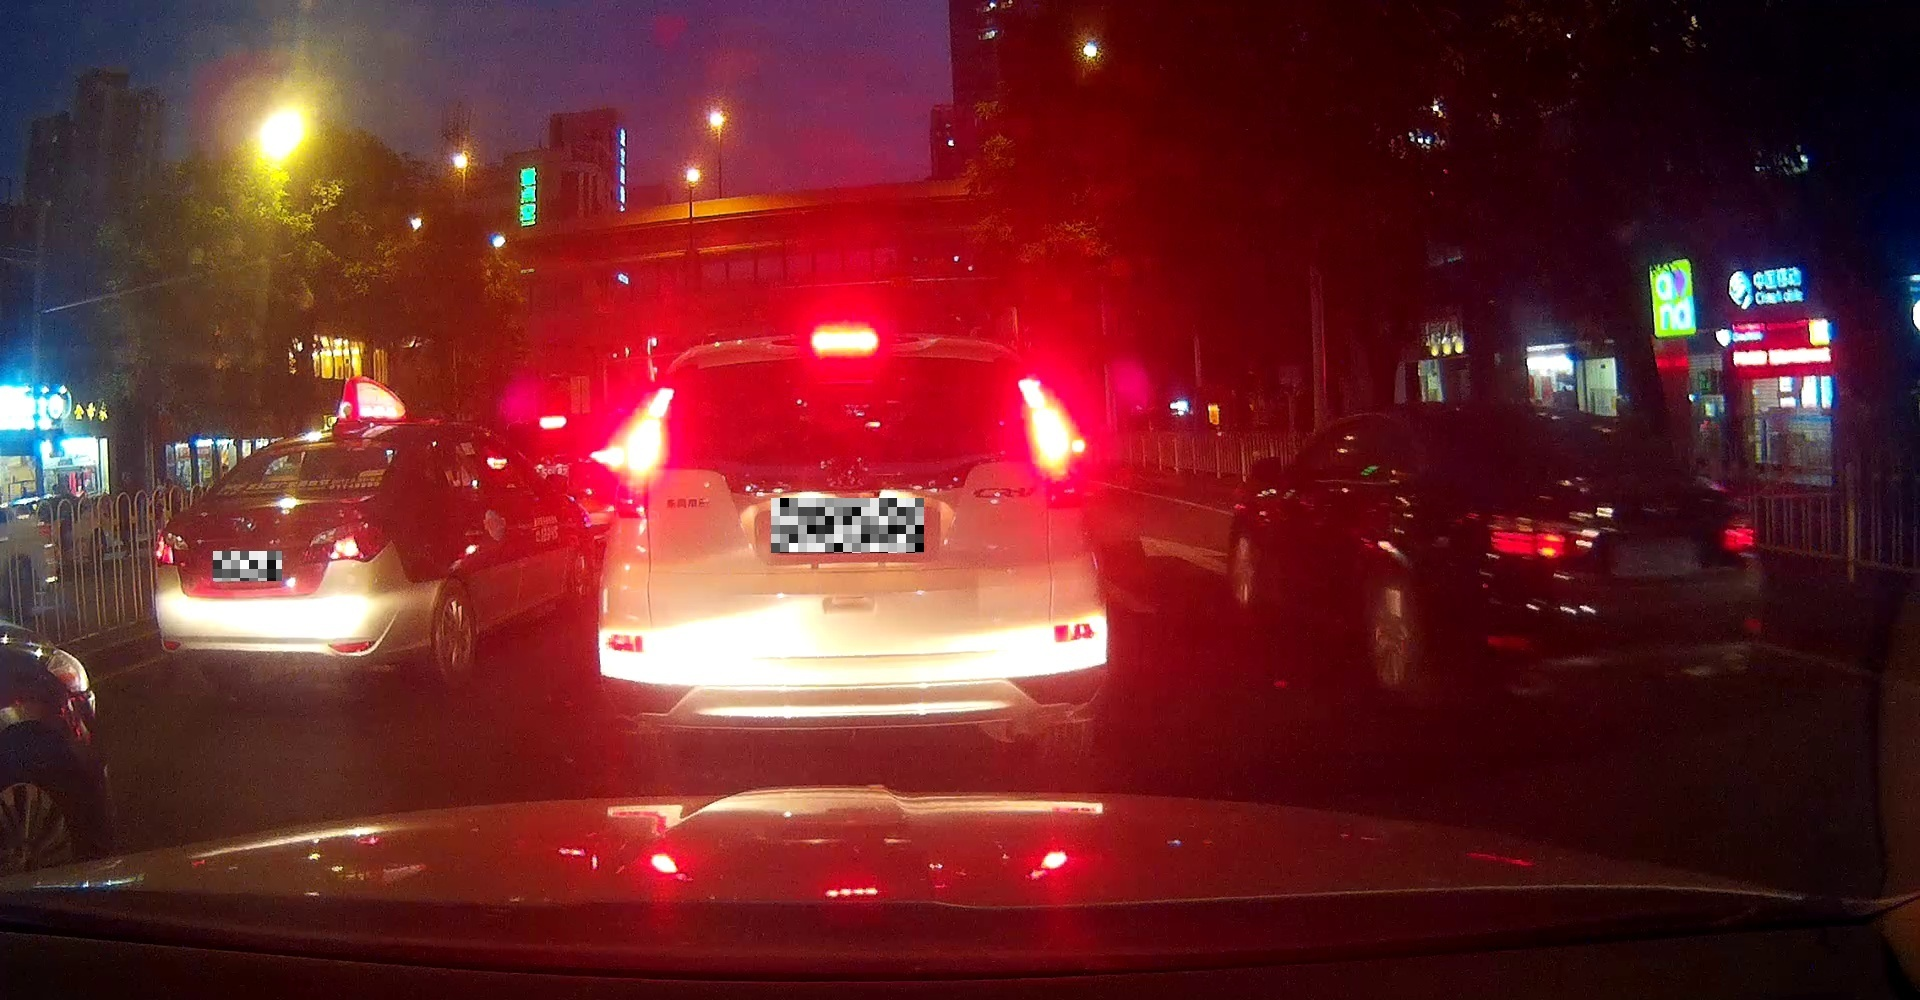L_light: (610, 387, 677, 519), (1482, 511, 1603, 563), (154, 530, 196, 569)
R_light: (1017, 379, 1087, 505), (300, 519, 392, 563), (1719, 511, 1760, 552)
T_light: (808, 330, 881, 357), (1572, 426, 1617, 435), (309, 445, 342, 451)
night-brake: (597, 322, 1109, 764)
night-no: (1427, 398, 1770, 703), (151, 420, 419, 689)
plate_1: (213, 551, 282, 581)
plate_2: (771, 497, 924, 553)
